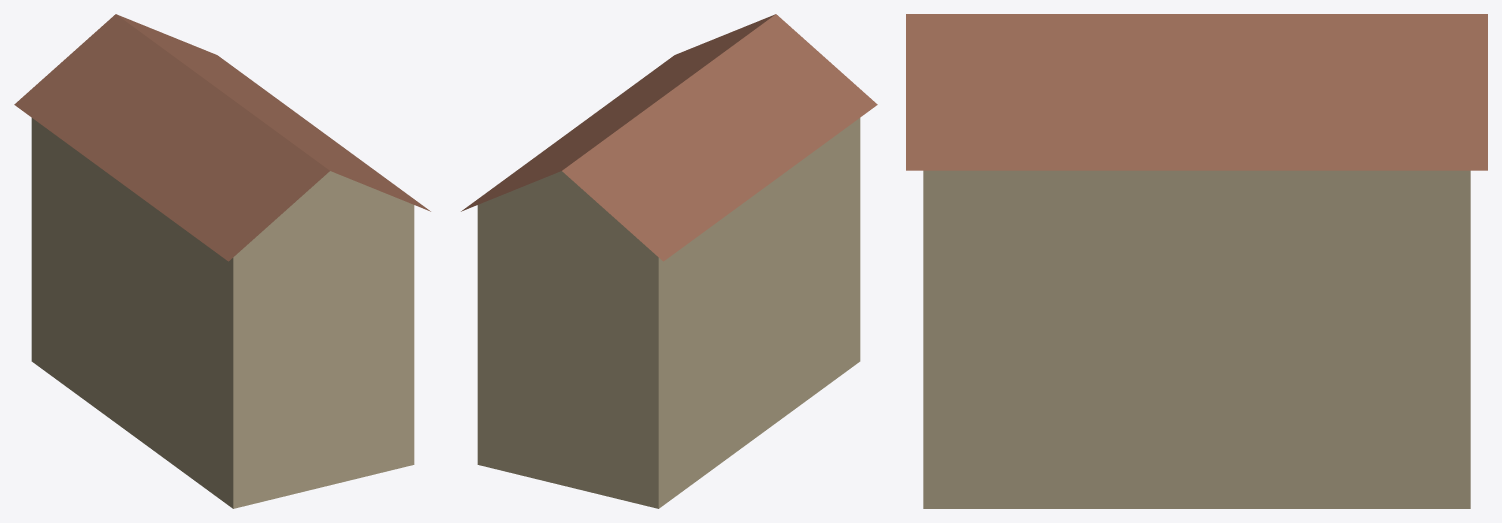
File: cafe.glb
3 views of the same model, side by side, from view 1: azimuth 30°, elevation 25°; view 2: azimuth 150°, elevation 25°; view 3: azimuth 270°, elevation 25° (orthographic). The views are drawn at different scales.
Parts seen in each view (by area): view 1: cafe; view 2: cafe; view 3: cafe.
Boxes of the visible parts, x1,y1,x2,y2 form: cafe: (14,14,430,508); cafe: (461,14,877,508); cafe: (906,14,1487,508).
Bounding box in the file's own units: 6.4 × 9.64 × 11.69.
